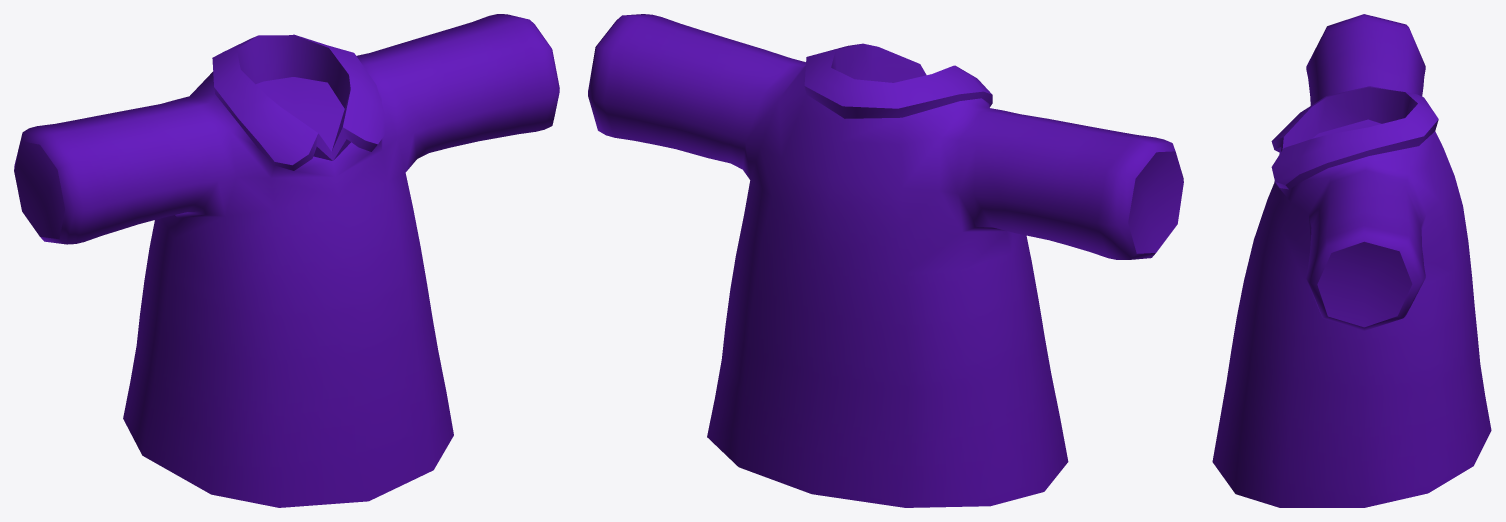
The model's file is Top_46.fbx.
3 views of the same model, side by side, from view 1: azimuth 30°, elevation 25°; view 2: azimuth 150°, elevation 25°; view 3: azimuth 270°, elevation 25° (orthographic). The views are drawn at different scales.
Visible parts, largest first — view 1: Top_46; view 2: Top_46; view 3: Top_46.
Boxes of the visible parts, x1,y1,x2,y2 form: Top_46: [14, 14, 559, 507]; Top_46: [588, 14, 1183, 507]; Top_46: [1212, 14, 1491, 507].
Bounding box in the file's own units: 80.8 × 60.1 × 42.41.
